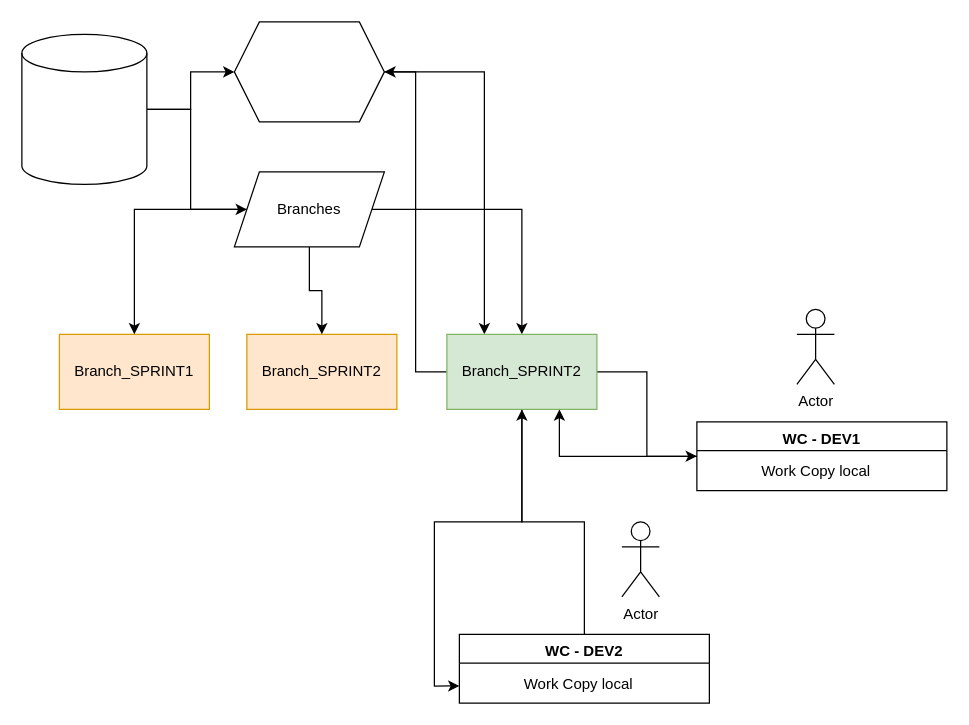
The diagram is 969 pixels wide and 725 high, and some of its shapes have lost their labels. Each missing label, with the box of its shape:
Repo Sistema XPTO: (21, 33, 147, 184)
Trunk: (233, 21, 384, 122)
